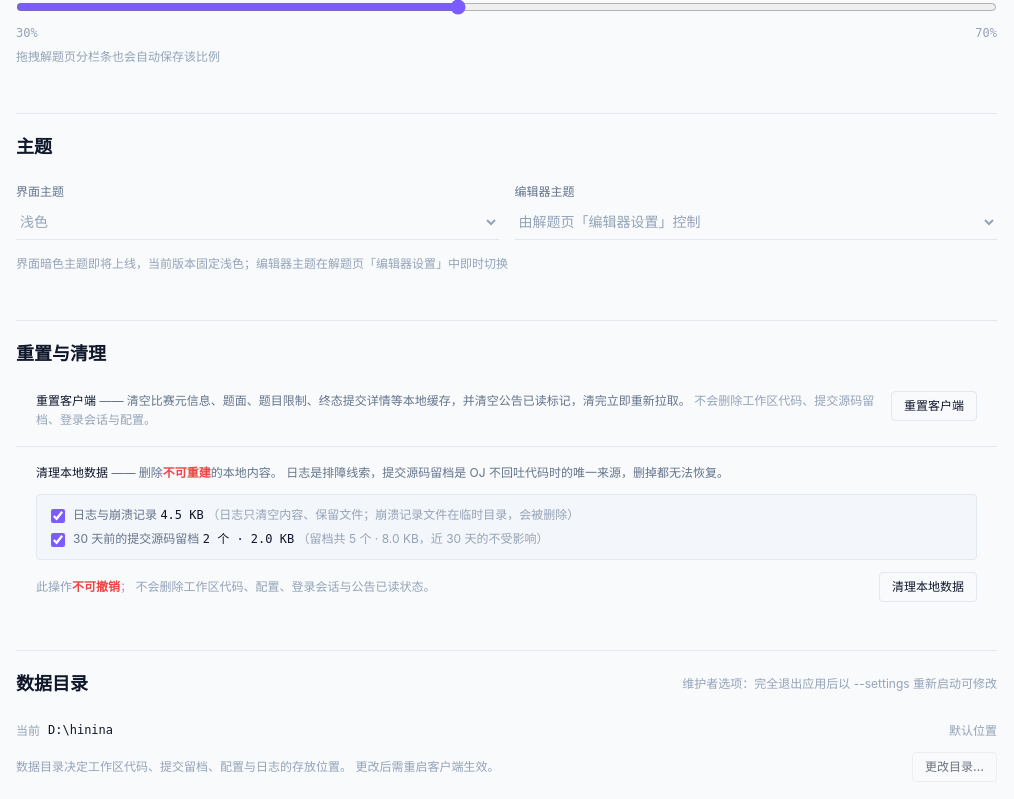
Test: SettingsView 重置客户端 › 重置成功但补拉失败：提示必须带 warn 语义（如实，不宣称数据已最新）
(page scrolled)
Click the button "重置客户端" at coordinates (934, 406), box [891,390,977,420]
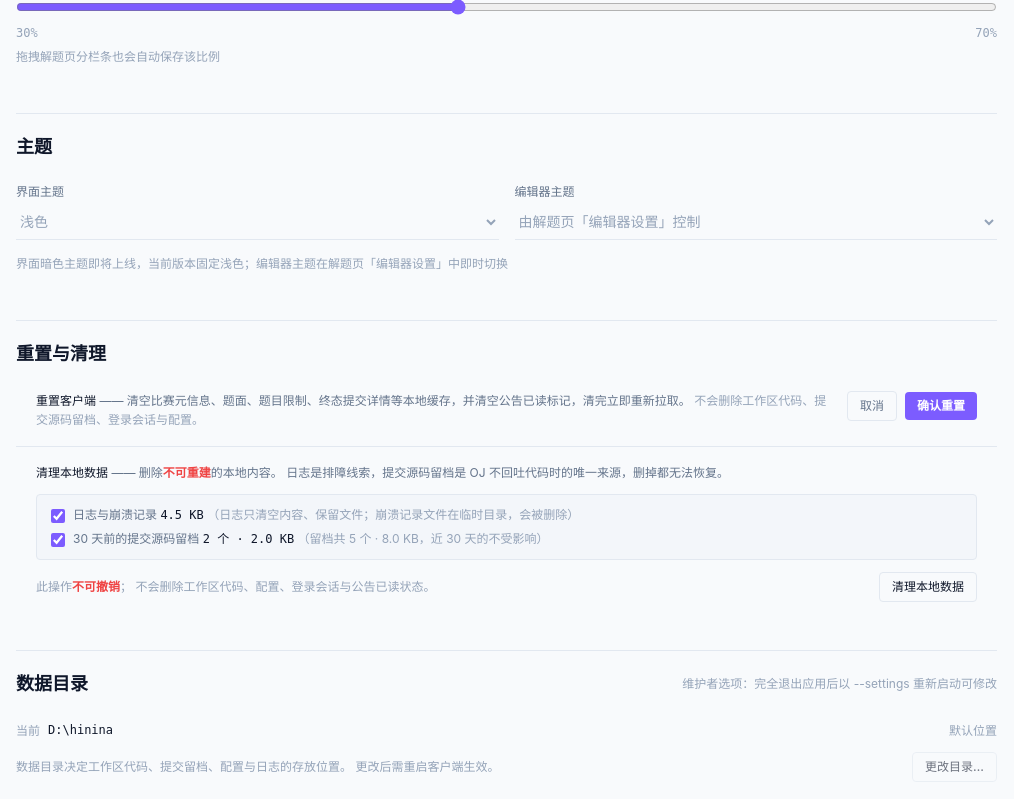
Expected: the button "确认重置" is shown
Click the button "确认重置" at coordinates (941, 406), box [905,392,977,420]
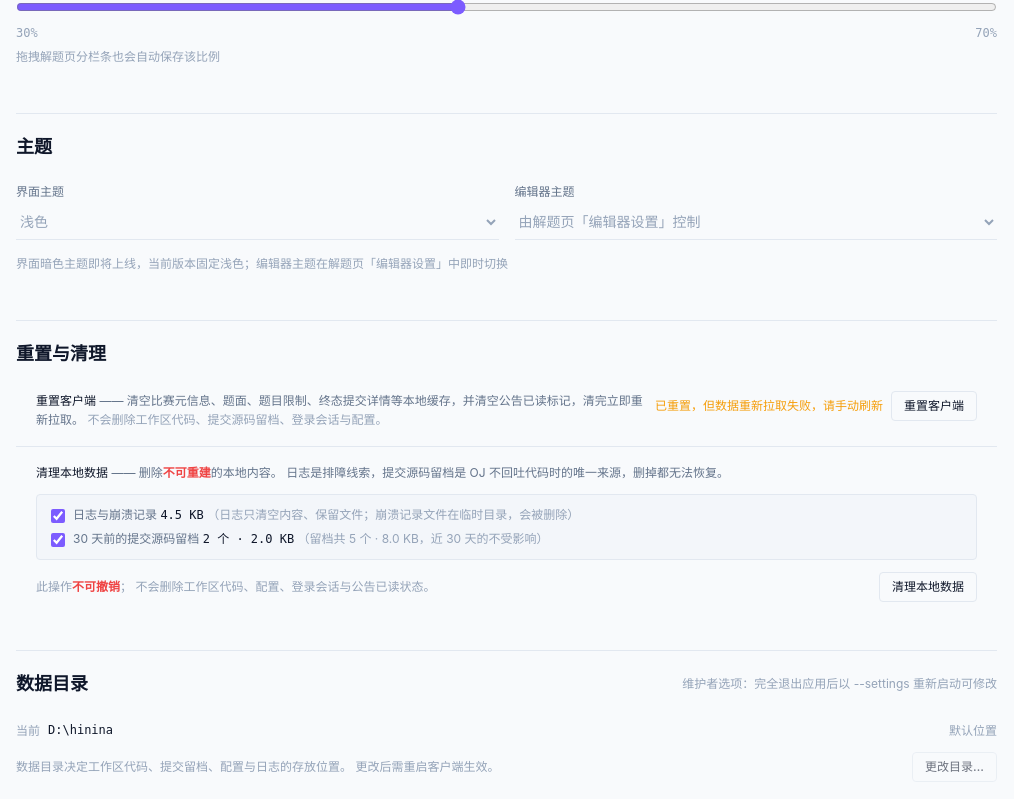
Expected: the text "数据重新拉取失败" is shown, [655,398,883,412]
